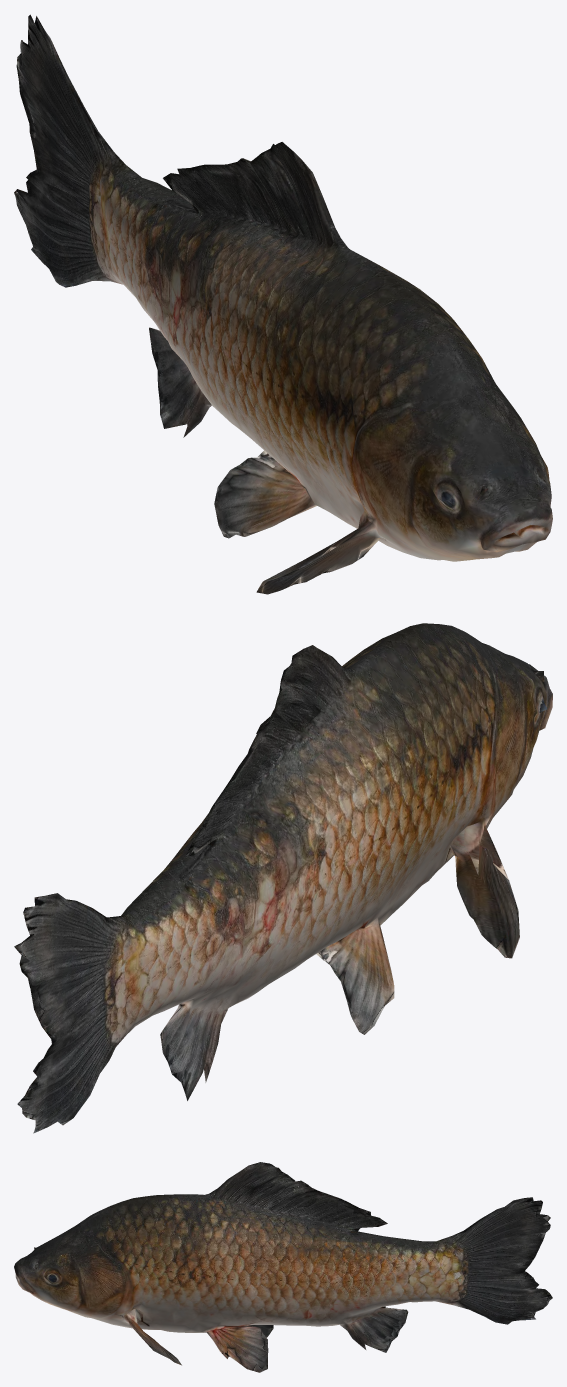
Rendered from fish.glb.
The picture shows the model from 3 angles, top to bottom: view 1: azimuth 30°, elevation 25°; view 2: azimuth 150°, elevation 25°; view 3: azimuth 270°, elevation 25°; orthographic projection. The views are drawn at different scales.
Visible parts, largest first — view 1: Carp_01_low; view 2: Carp_01_low; view 3: Carp_01_low.
Boxes of the visible parts, box(x1,y1,x2,y2) form: Carp_01_low: box(14, 14, 552, 594); Carp_01_low: box(14, 623, 552, 1133); Carp_01_low: box(14, 1162, 552, 1372).
Size of the model in its own units: 0.0271 by 0.0419 by 0.105.
Materials: 1 (1 with a texture image).
